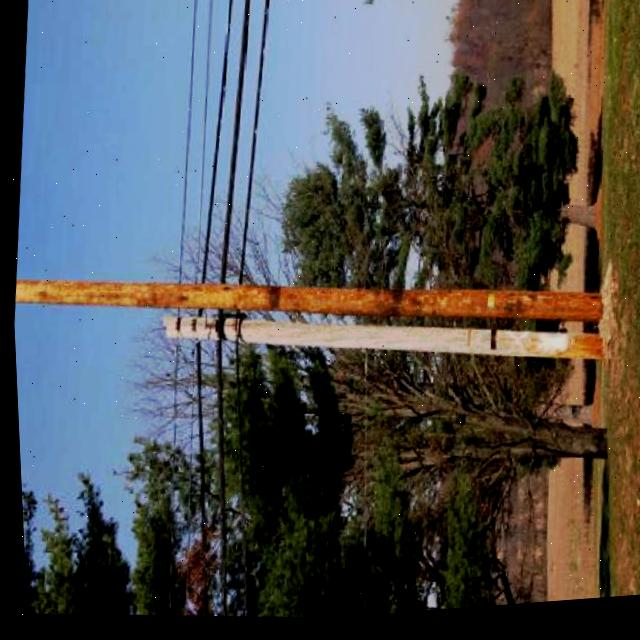poles: (157, 292, 602, 393)
wires: (160, 0, 274, 283), (151, 347, 266, 617), (334, 363, 379, 620)
